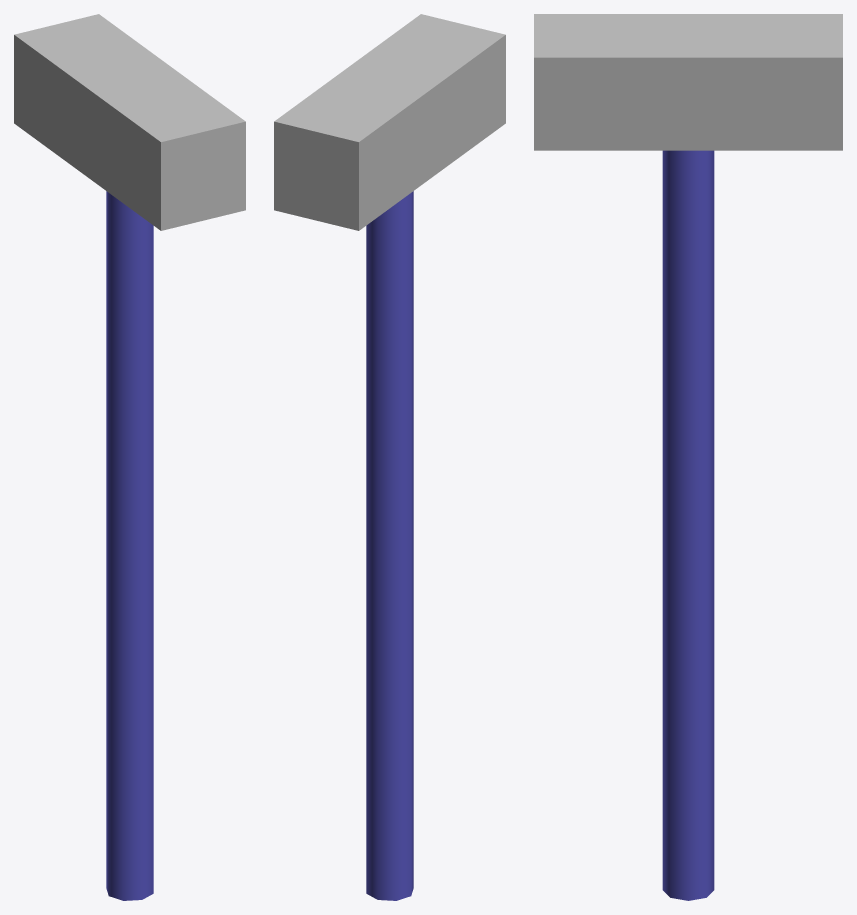
The model's file is SM_Prop_HammerSmall.fbx.
3 views of the same model, side by side, from view 1: azimuth 30°, elevation 25°; view 2: azimuth 150°, elevation 25°; view 3: azimuth 270°, elevation 25° (orthographic). The views are drawn at different scales.
Parts seen in each view (by area): view 1: SM_Prop_HammerSmall; view 2: SM_Prop_HammerSmall; view 3: SM_Prop_HammerSmall.
Boxes of the visible parts, x1=… form: SM_Prop_HammerSmall: x1=14, y1=14, x2=245, y2=900; SM_Prop_HammerSmall: x1=274, y1=14, x2=505, y2=900; SM_Prop_HammerSmall: x1=534, y1=14, x2=842, y2=900.
Size of the model in its own units: 4 by 36.62 by 12.
